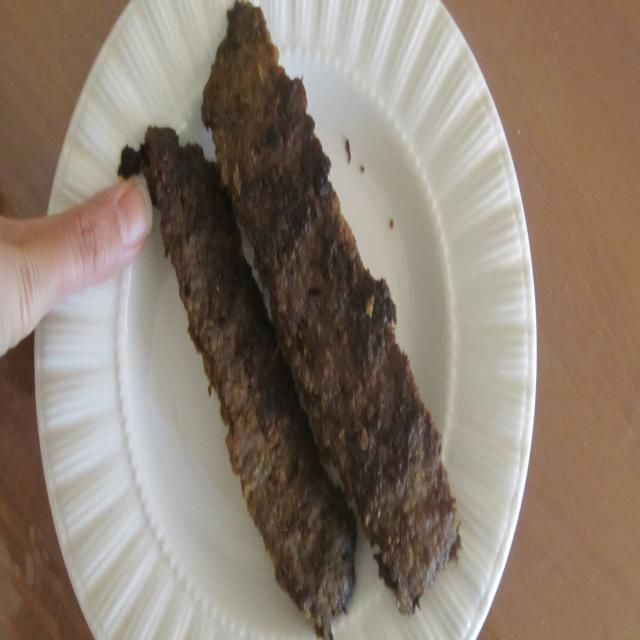cutlet: (145, 0, 471, 638)
